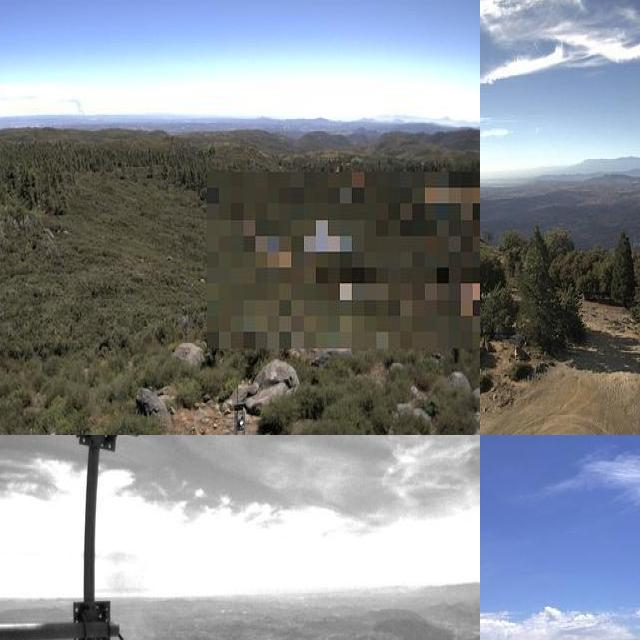smoke: (107, 558, 161, 640), (65, 96, 87, 115)
